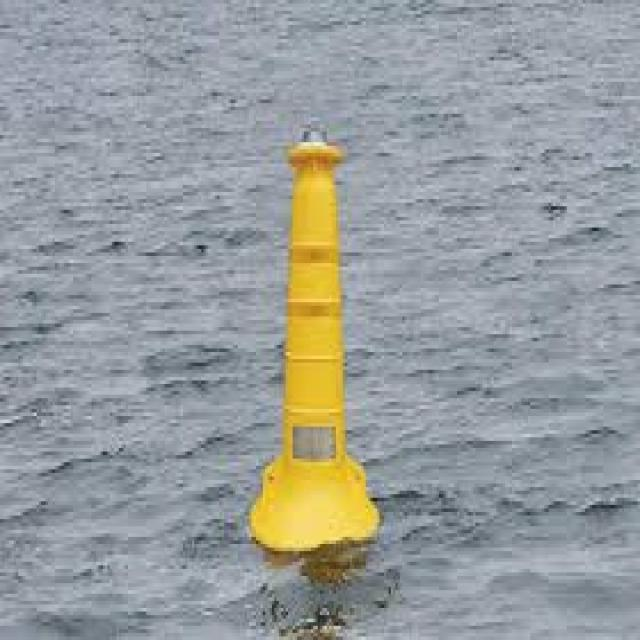buoy: (241, 108, 384, 568)
